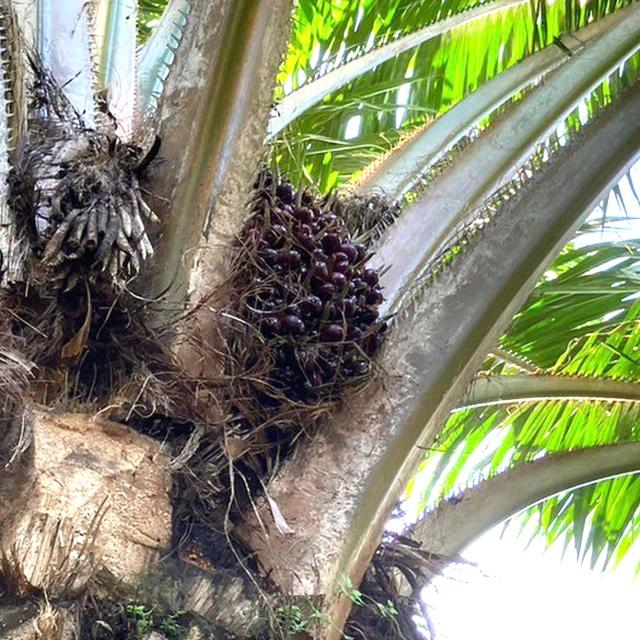ripe: (208, 145, 404, 454)
